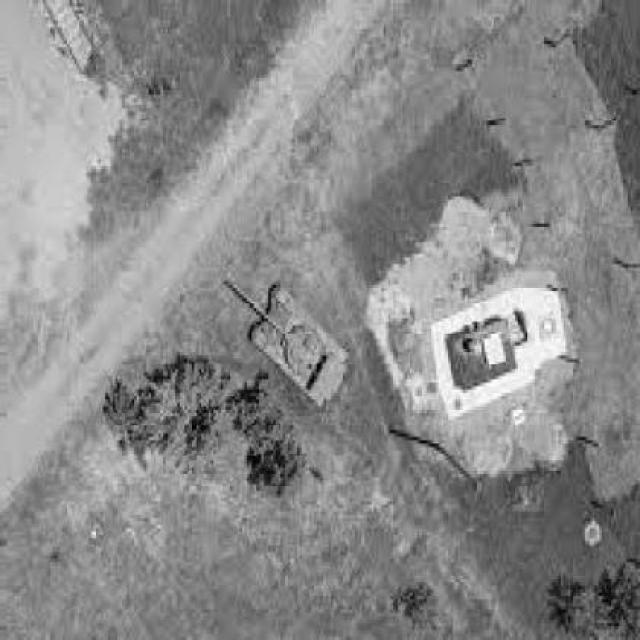tank: (228, 278, 348, 406)
